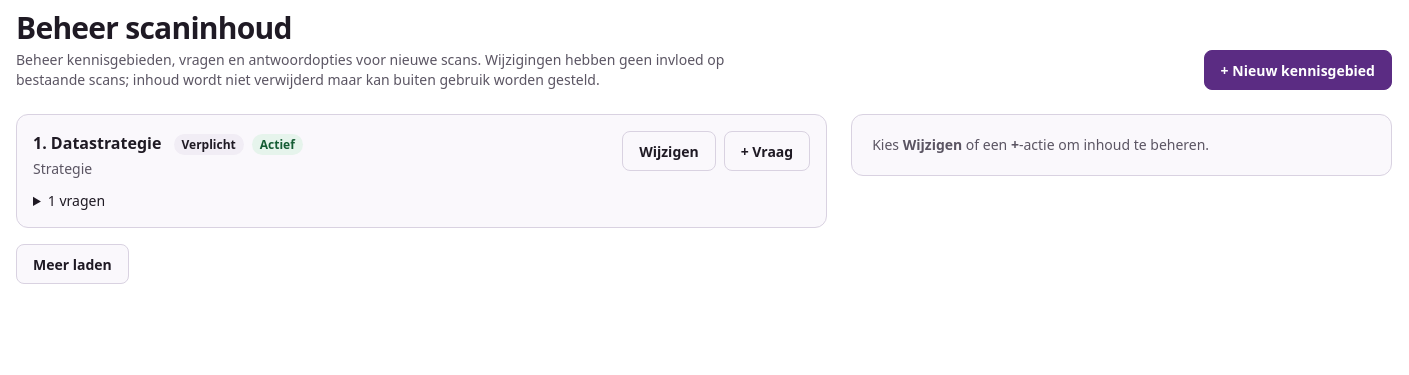
Test case: AdminComponent › lists domains, questions and options without delete actions and paginates
The width and height of the screenshot is (1409, 375).
What coordinates should you click on to do the following:
click the button "Meer laden"
I would click on:
 (72, 264)
Its box is top-left (16, 244), bottom-right (129, 284).
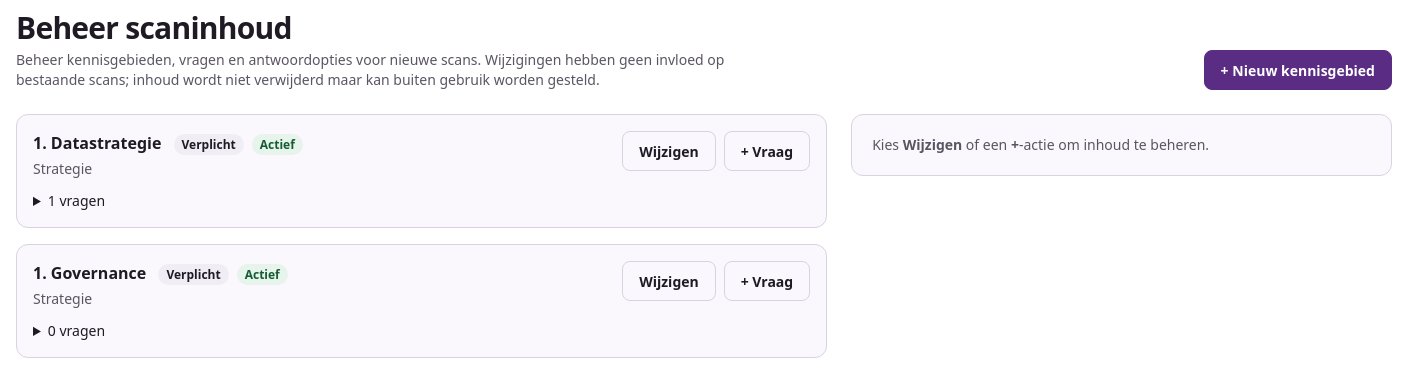
Now the text "Governance" is shown, box top-left (33, 262), bottom-right (150, 284)
